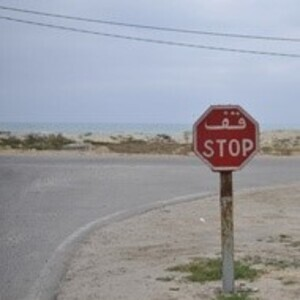stop: (193, 105, 261, 173)
